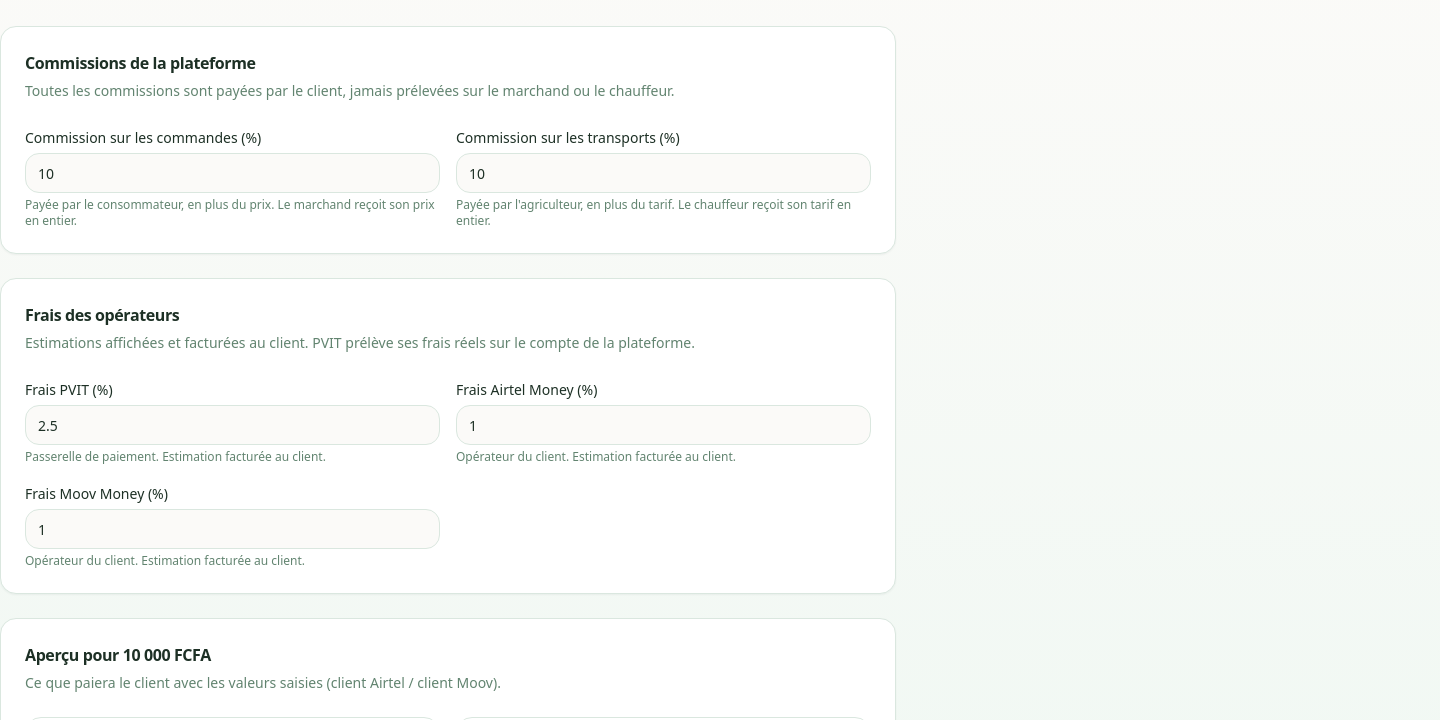
Test: AdminFeesPage › keeps Save disabled until something changes
Replace the text in the field labelled "Frais PVIT (%)" with "3": (232, 425) [25,405,440,445]
(page scrolled)
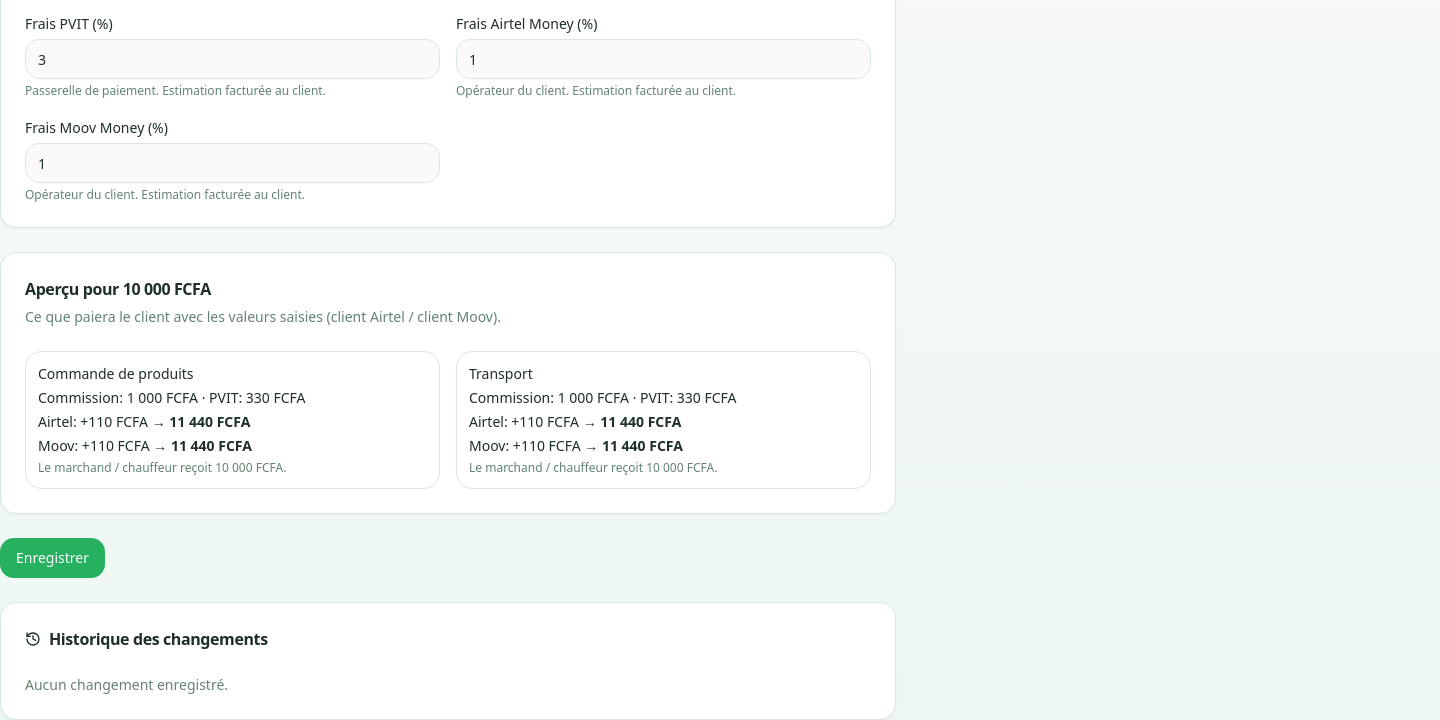
Now the button "Enregistrer" is enabled, box [0,538,105,578]
